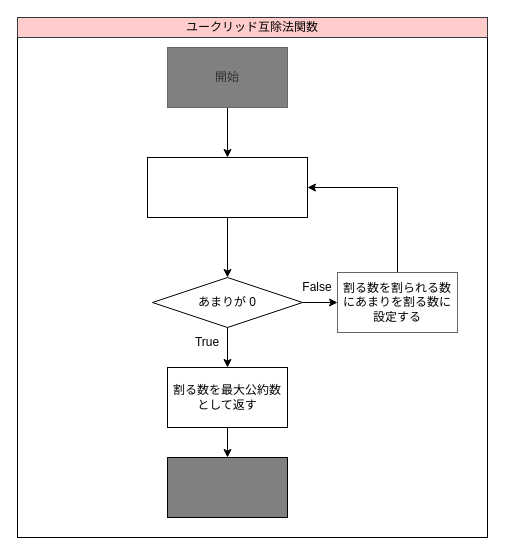
The diagram is 505 pixels wide and 555 high, and some of its shapes have lost their labels. The shapes that lost their labels are listed below. From the top down, each one's box as (x1, y1, x2, y2) in pixels, then its label:
(146, 156, 308, 218): 割り算しあまりを求める
(166, 456, 288, 518): 終了
